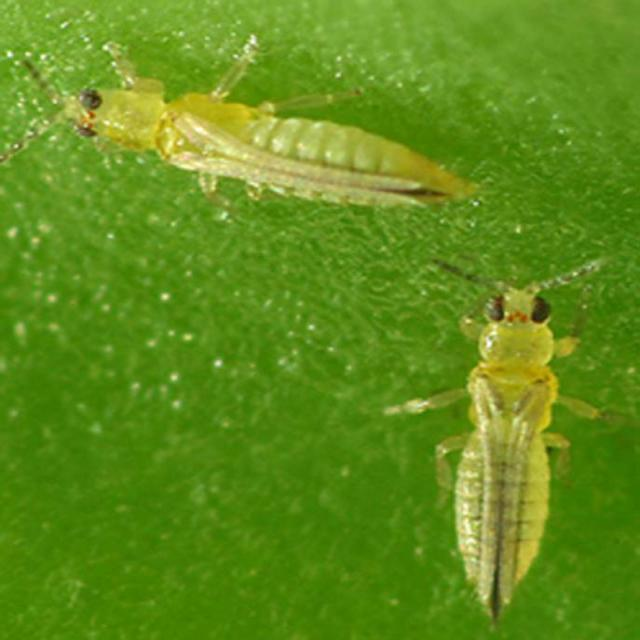thrip: (19, 44, 493, 242), (409, 222, 596, 629)
